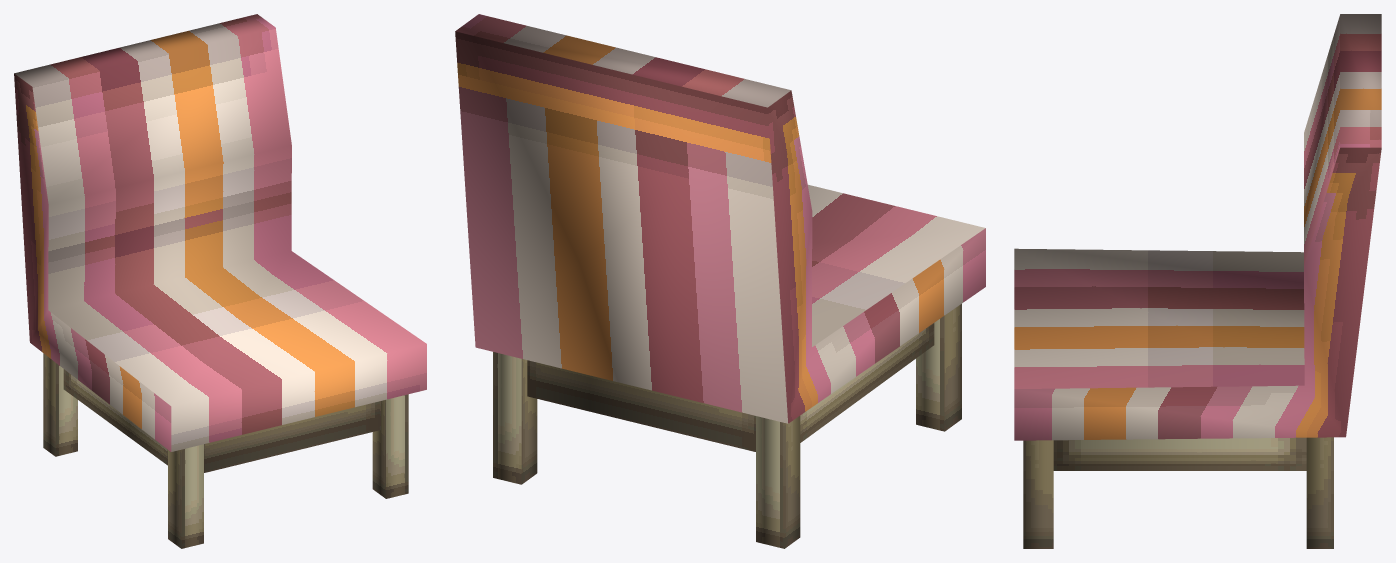
3 views of the same model, side by side, from view 1: azimuth 30°, elevation 25°; view 2: azimuth 150°, elevation 25°; view 3: azimuth 270°, elevation 25° (orthographic). The views are drawn at different scales.
Visible parts, largest first — view 1: 3123IMRL09_16; view 2: 3123IMRL09_16; view 3: 3123IMRL09_16.
Part boxes in pixels (left/top/right/bottom): 3123IMRL09_16: left=14, top=14, right=426, bottom=548; 3123IMRL09_16: left=455, top=14, right=985, bottom=548; 3123IMRL09_16: left=1014, top=14, right=1381, bottom=548.
Size of the model in its own units: 0.7896 by 1.06 by 0.8738.
Materials: 3 (3 with a texture image).
